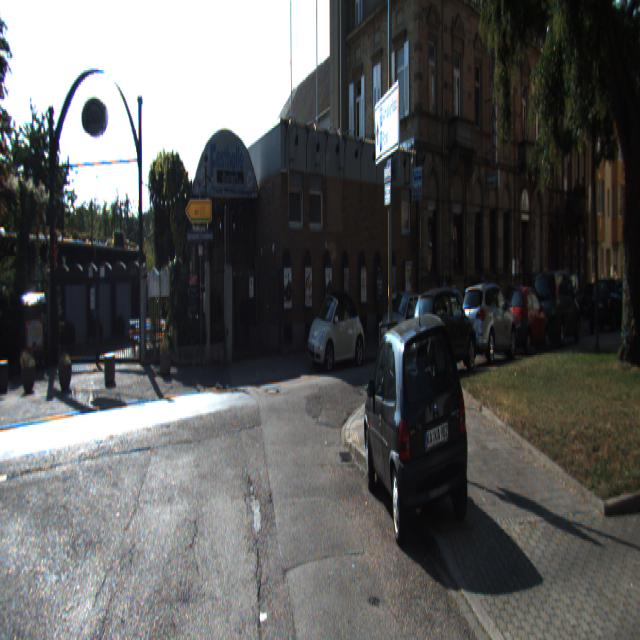Car: (364, 307, 472, 536), (409, 278, 478, 381), (461, 279, 518, 366), (307, 289, 365, 373), (533, 266, 582, 346), (507, 284, 551, 354)
